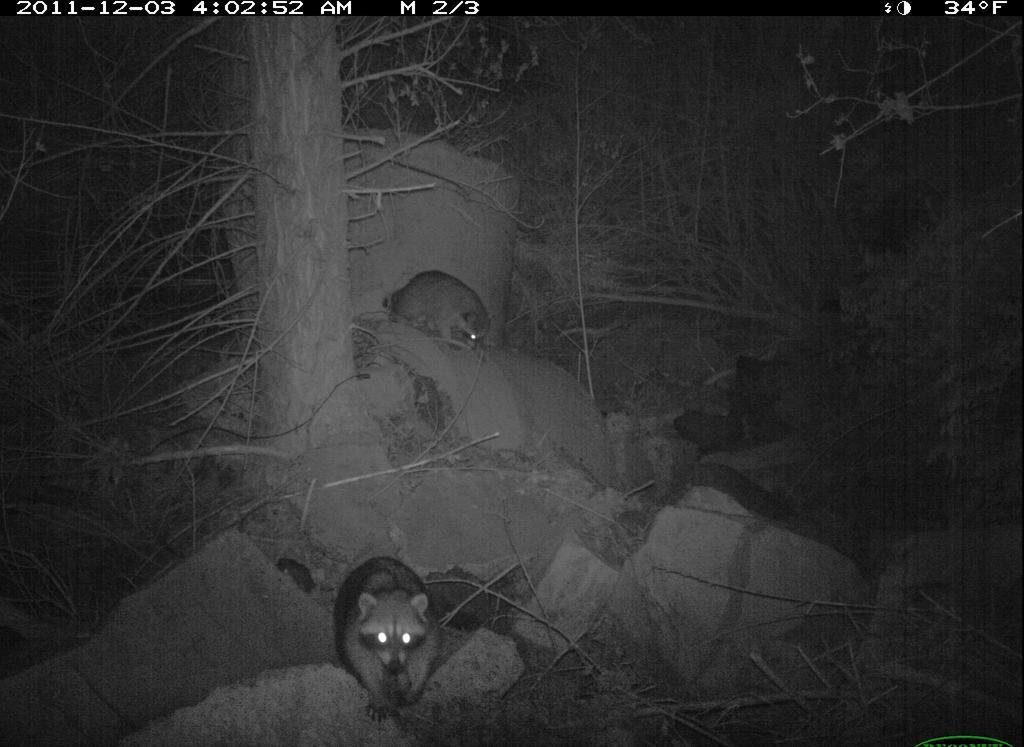raccoon: (329, 551, 451, 726), (373, 264, 498, 356)
